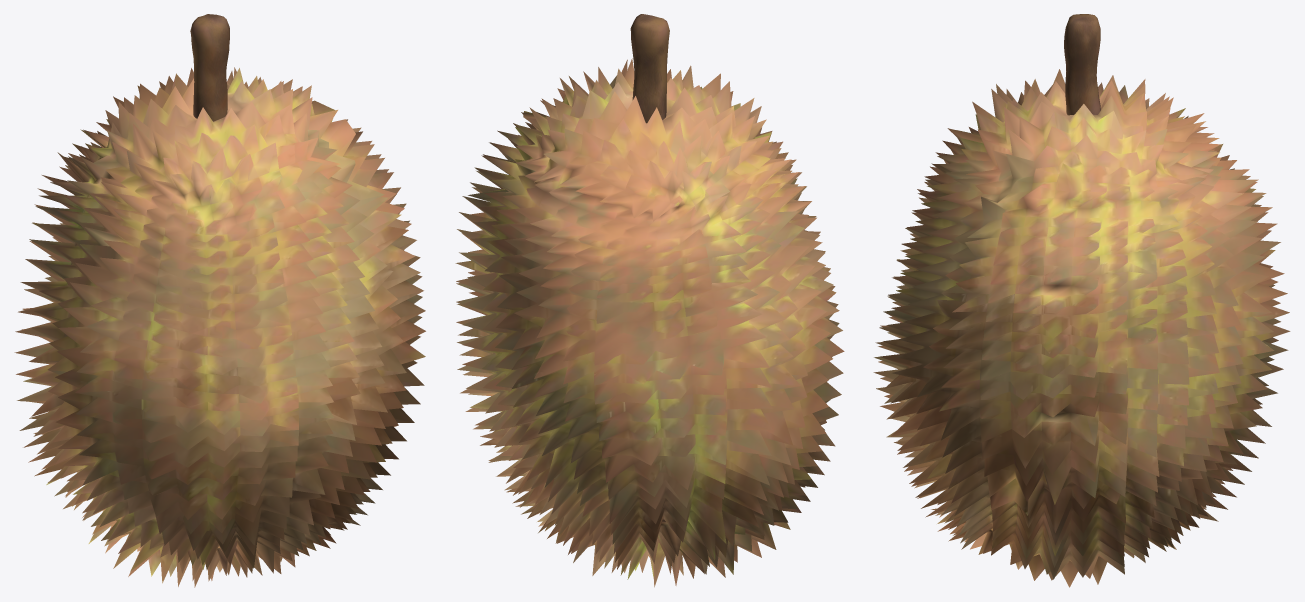
File: durian.glb
3 renders of one model, left to right at view 1: azimuth 30°, elevation 25°; view 2: azimuth 150°, elevation 25°; view 3: azimuth 270°, elevation 25°, orthographic.
Visible parts, largest first — view 1: Durian2_Durian_0, stem_Stem_0; view 2: Durian2_Durian_0, stem_Stem_0; view 3: Durian2_Durian_0, stem_Stem_0.
Boxes of the visible parts, x1,y1,x2,y2 form: Durian2_Durian_0: [14, 67, 425, 587]; stem_Stem_0: [190, 14, 229, 121]; Durian2_Durian_0: [455, 58, 844, 587]; stem_Stem_0: [630, 14, 669, 122]; Durian2_Durian_0: [873, 69, 1290, 587]; stem_Stem_0: [1064, 14, 1100, 115].
Size of the model in its own units: 0.1648 by 0.25 by 0.1708.
2 materials, 2 textured.
